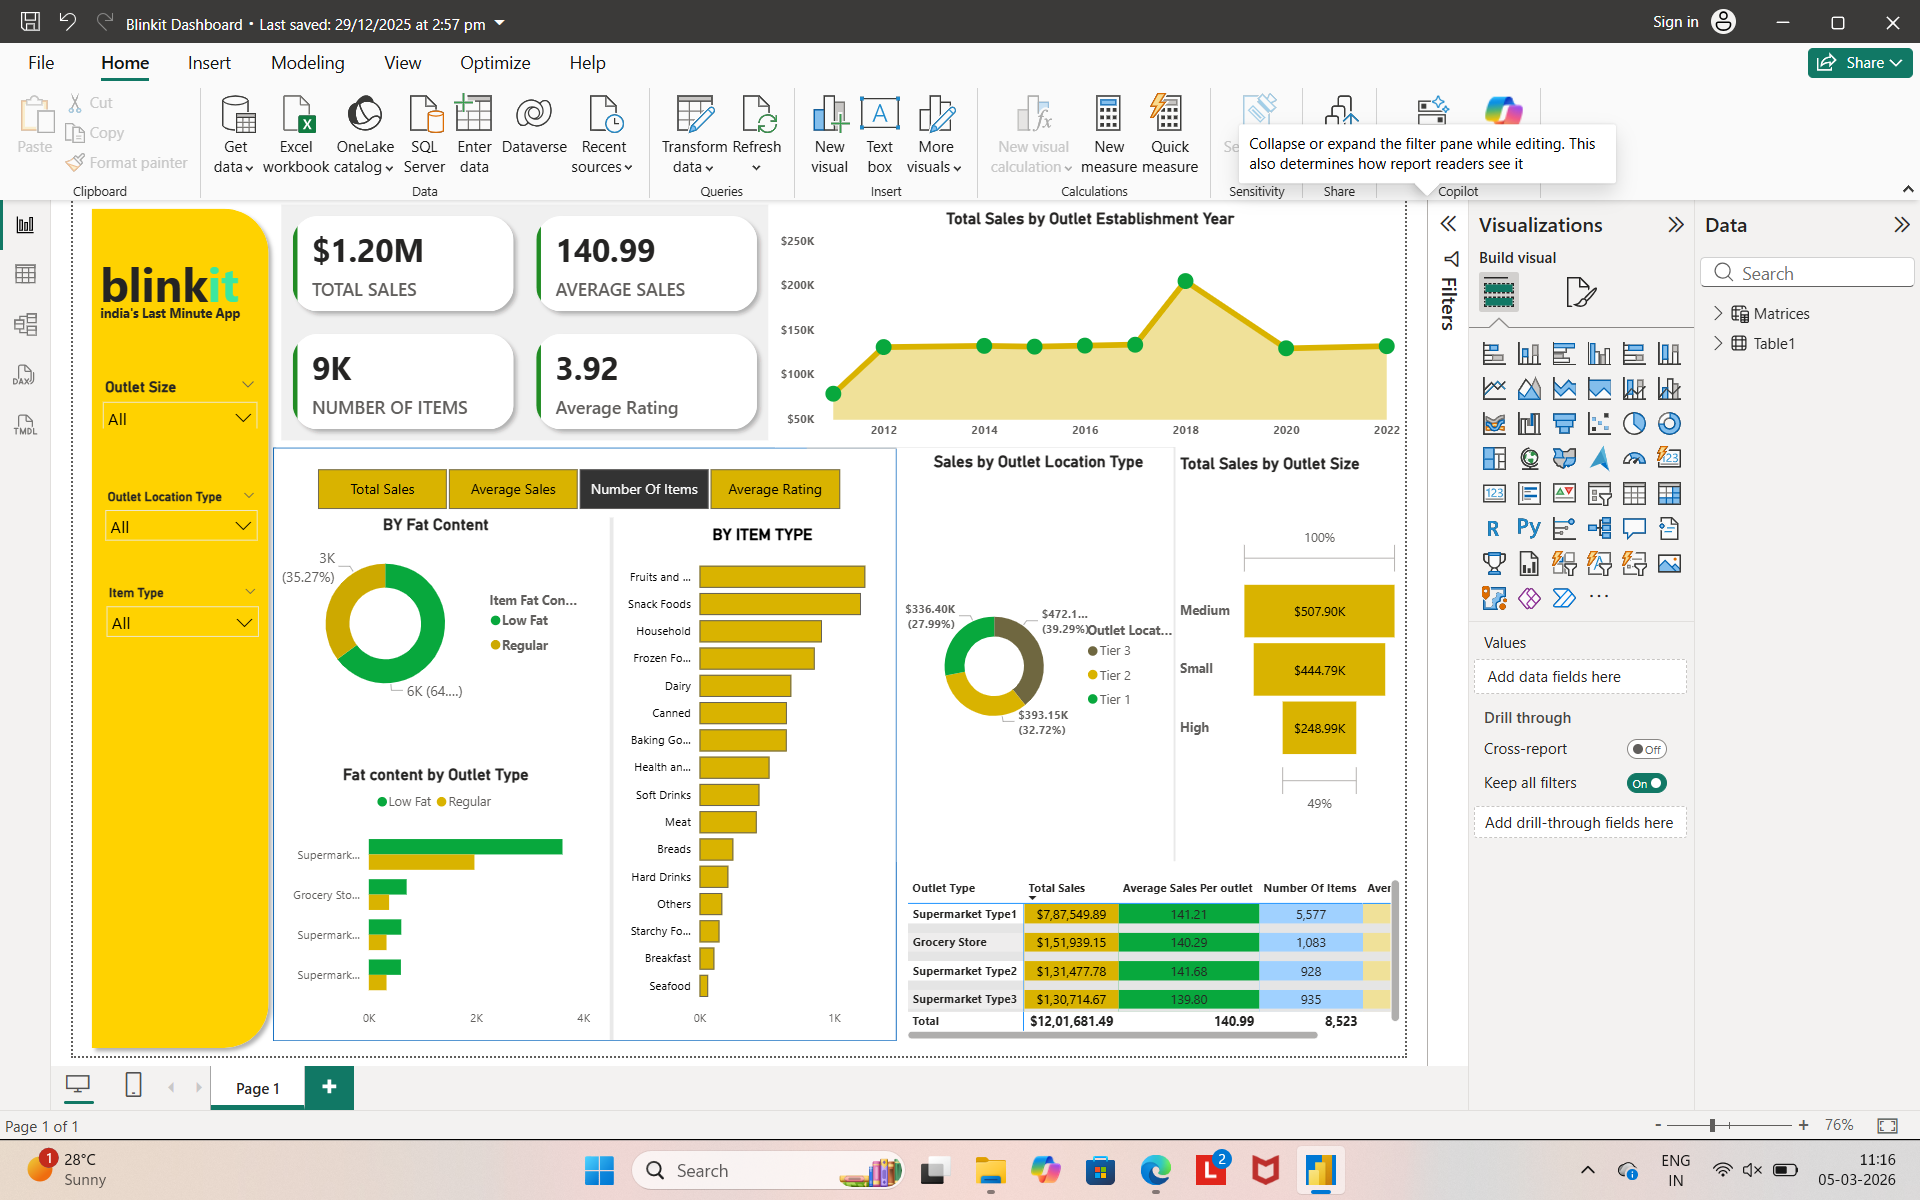

What the dashboard file says about the page in this screenshot:
{"tool":"powerbi","page":{"name":"Page 1","canvas":[1400,900],"ordinal":0},"visuals":[{"type":"shape","box":[210.3,260.2,655.8,624.3],"z":0},{"type":"shape","box":[10.5,0,204.1,900.5],"z":1000},{"type":"textbox","box":[24,49.5,190.6,145.6],"z":2000},{"type":"textbox","box":[24,105.1,213.1,135.1],"z":3000},{"type":"donutChart","title":"BY Fat Content","fields":{"Y":["Table1.Number Of Items"],"Category":["Table1.Item Fat Content"]},"box":[214.6,327.2,334.7,213.1],"z":4000},{"type":"cardVisual","fields":{"Data":["Table1.Total Sales","Table1.Average  Sales","Table1.Number Of Items","Table1.Average Rating"]},"box":[214.6,0,523.8,259.6],"z":5000},{"type":"slicer","fields":{"Values":["MAT.MAT"]},"box":[231.1,276.2,598.8,55.5],"z":6000},{"type":"clusteredBarChart","title":"BY ITEM TYPE","fields":{"Y":["Table1.Number Of Items"],"Category":["Table1.Item Type"]},"box":[567.3,333.2,315.2,544.8],"z":7000},{"type":"clusteredBarChart","title":"Fat content by Outlet Type","fields":{"Y":["Table1.Number Of Items"],"Category":["Table1.Outlet Type"],"Series":["Table1.Item Fat Content"]},"box":[214.6,582.3,334.7,295.7],"z":8000},{"type":"textbox","box":[739,0,237,260],"z":9000},{"type":"shape","box":[771.4,157.6,628.9,204.1],"z":10000},{"type":"shape","box":[382.7,333.2,367.7,549.3],"z":11000},{"type":"lineChart","fields":{"Y":["Table1.Total Sales"],"Category":["Table1.Outlet Establishment Year"]},"box":[738.4,0,661.9,259.6],"z":12000},{"type":"donutChart","title":" Sales by Outlet Location Type","fields":{"Y":["Table1.Total Sales"],"Category":["Table1.Outlet Location Type"]},"box":[866.1,260.2,298.3,435],"z":13000},{"type":"shape","box":[975.2,260.2,368,449.5],"z":14000},{"type":"funnel","fields":{"Y":["Table1.Total Sales"],"Category":["Table1.Outlet Size"]},"box":[1159.2,255,240.5,445.5],"z":15000},{"type":"shape","box":[872.7,499.4,527,400.8],"z":16000},{"type":"pivotTable","fields":{"Rows":["Table1.Outlet Type"],"Values":["Table1.Total Sales","Table1.Average  Sales","Table1.Number Of Items","Table1.Average Rating"]},"box":[872.7,695.2,527,205],"z":17000},{"type":"slicer","fields":{"Values":["Table1.Outlet Size"]},"box":[21,182.7,182.7,57.8],"z":18000},{"type":"slicer","fields":{"Values":["Table1.Outlet Location Type"]},"box":[23.7,299.7,180.1,99.9],"z":19000},{"type":"slicer","fields":{"Values":["Table1.Item Type"]},"box":[25,400.8,180.1,99.9],"z":20000}]}

Visuals, with their boxes on the page's 1400x900 design canvas (x1, y1, x2, y2). These are canvas units, not pixel positions in the 1920x1200 screenshot, which may show the page scaled, cropped or inside an application window:
shape: box(210, 260, 866, 884)
shape: box(10, 0, 215, 900)
textbox: box(24, 50, 215, 195)
textbox: box(24, 105, 237, 240)
"BY Fat Content" donutChart: box(215, 327, 549, 540)
cardVisual - Table1.Total Sales x Table1.Average  Sales: box(215, 0, 738, 260)
slicer - MAT.MAT: box(231, 276, 830, 332)
"BY ITEM TYPE" clusteredBarChart: box(567, 333, 882, 878)
"Fat content by Outlet Type" clusteredBarChart: box(215, 582, 549, 878)
textbox: box(739, 0, 976, 260)
shape: box(771, 158, 1400, 362)
shape: box(383, 333, 750, 882)
lineChart - Table1.Total Sales x Table1.Outlet Establishment Year: box(738, 0, 1400, 260)
" Sales by Outlet Location Type" donutChart: box(866, 260, 1164, 695)
shape: box(975, 260, 1343, 710)
funnel - Table1.Total Sales x Table1.Outlet Size: box(1159, 255, 1400, 700)
shape: box(873, 499, 1400, 900)
pivotTable - Table1.Outlet Type x Table1.Total Sales: box(873, 695, 1400, 900)
slicer - Table1.Outlet Size: box(21, 183, 204, 240)
slicer - Table1.Outlet Location Type: box(24, 300, 204, 400)
slicer - Table1.Item Type: box(25, 401, 205, 501)
